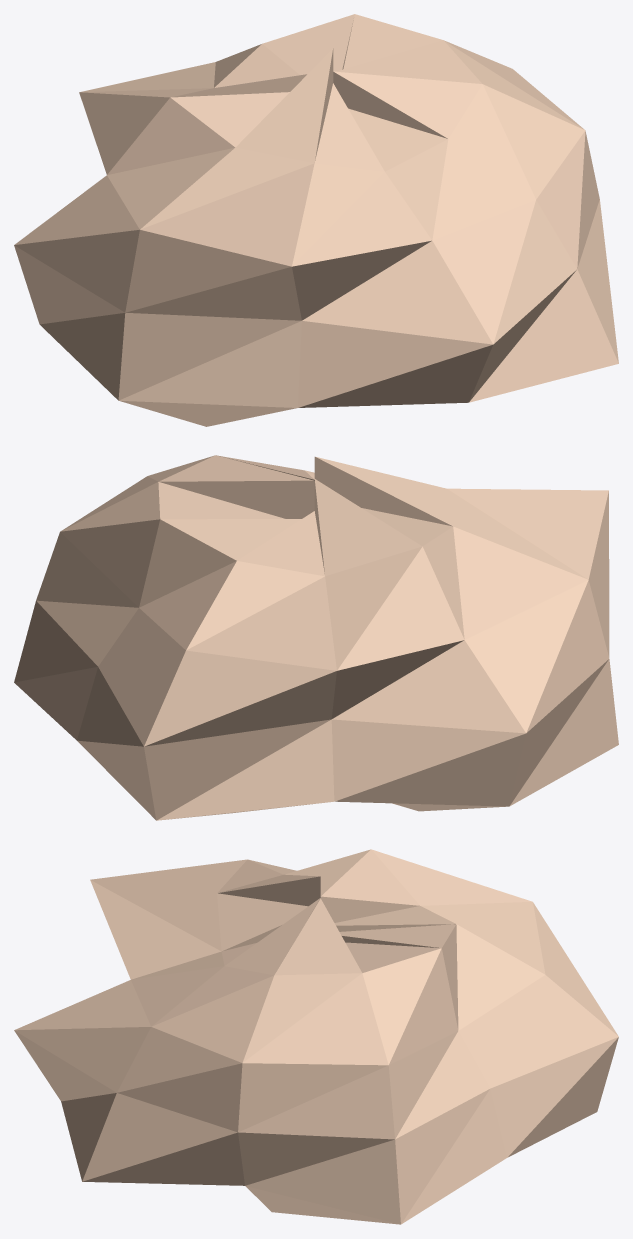
Rendered from rock_007.obj.
3 views of the same model, one above another, from view 1: azimuth 30°, elevation 25°; view 2: azimuth 150°, elevation 25°; view 3: azimuth 270°, elevation 25° (orthographic). The views are drawn at different scales.
Size of the model in its own units: 0.7519 by 0.4596 by 0.8264.
